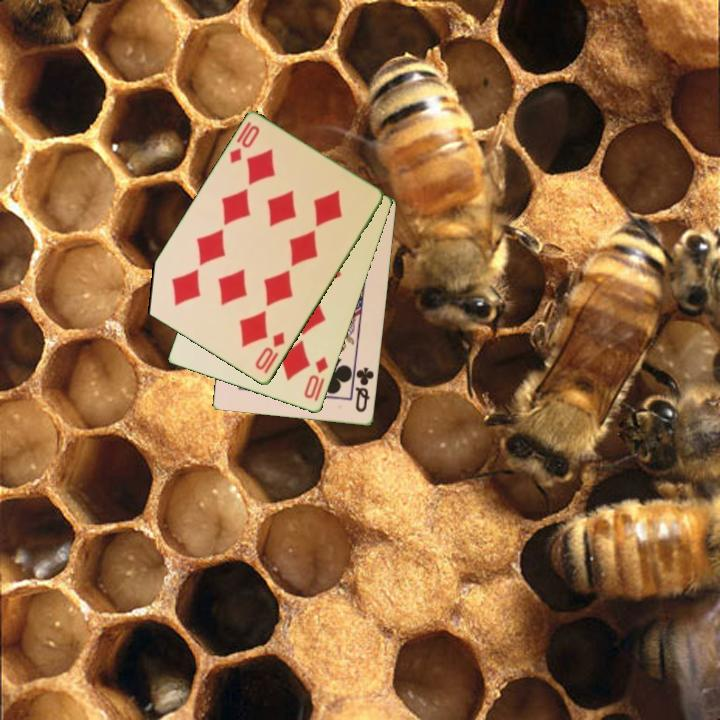10d: (251, 329, 288, 377), (226, 122, 263, 167), (300, 353, 331, 402)
Qc: (352, 364, 377, 416)
